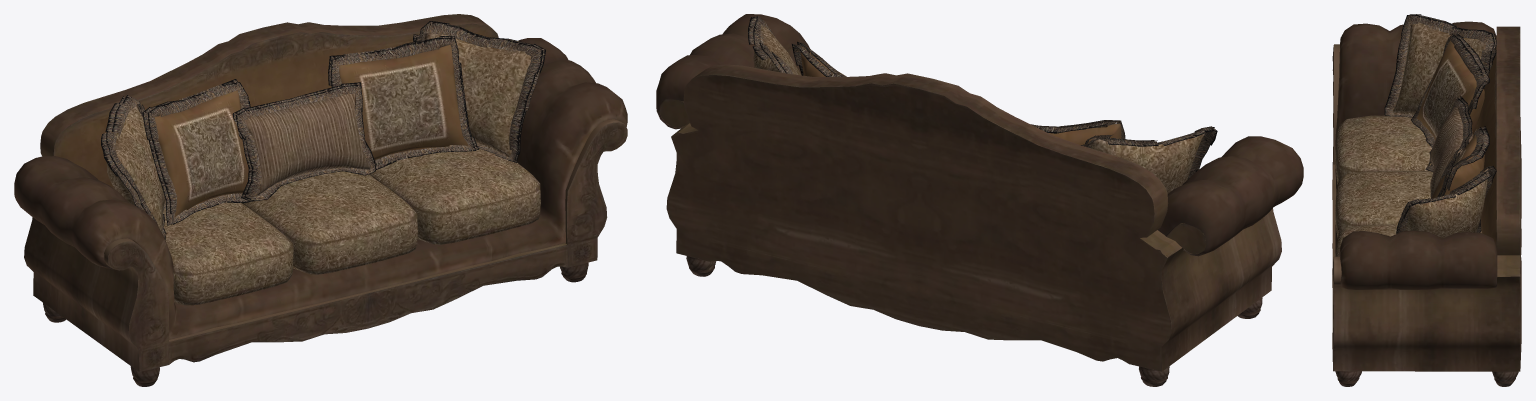
File: sofa_03.glb
3 views of the same model, side by side, from view 1: azimuth 30°, elevation 25°; view 2: azimuth 150°, elevation 25°; view 3: azimuth 270°, elevation 25° (orthographic). The views are drawn at different scales.
Visible parts, largest first — view 1: sofa_03; view 2: sofa_03; view 3: sofa_03.
Boxes of the visible parts, <box> form: sofa_03: <box>14,14,627,386</box>; sofa_03: <box>656,14,1303,386</box>; sofa_03: <box>1332,14,1521,386</box>.
Bounding box in the file's own units: 2.73 × 1.12 × 0.925.
Materials: 2 (2 with a texture image).
